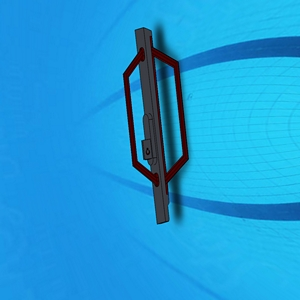submarine: (121, 28, 195, 226)
